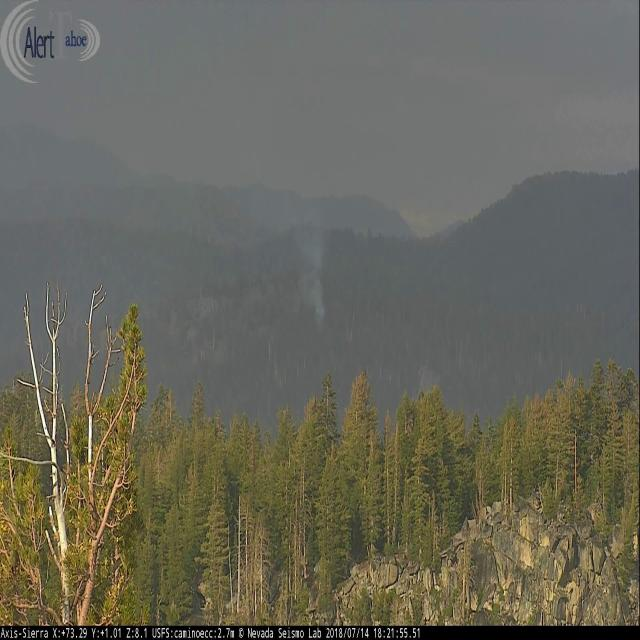smoke: (232, 157, 327, 325)
